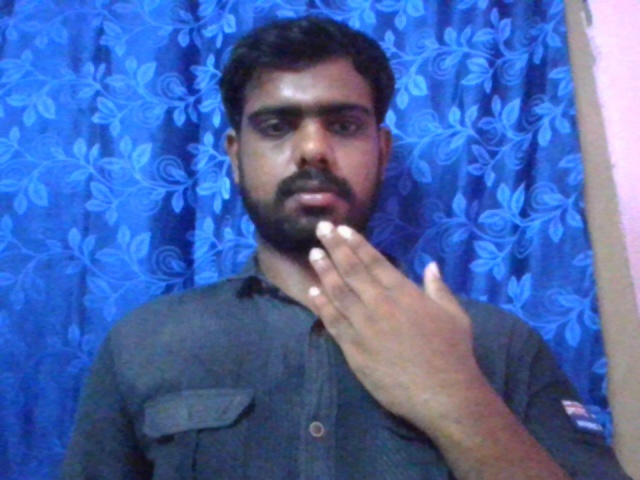Thanks: (308, 212, 478, 403)
